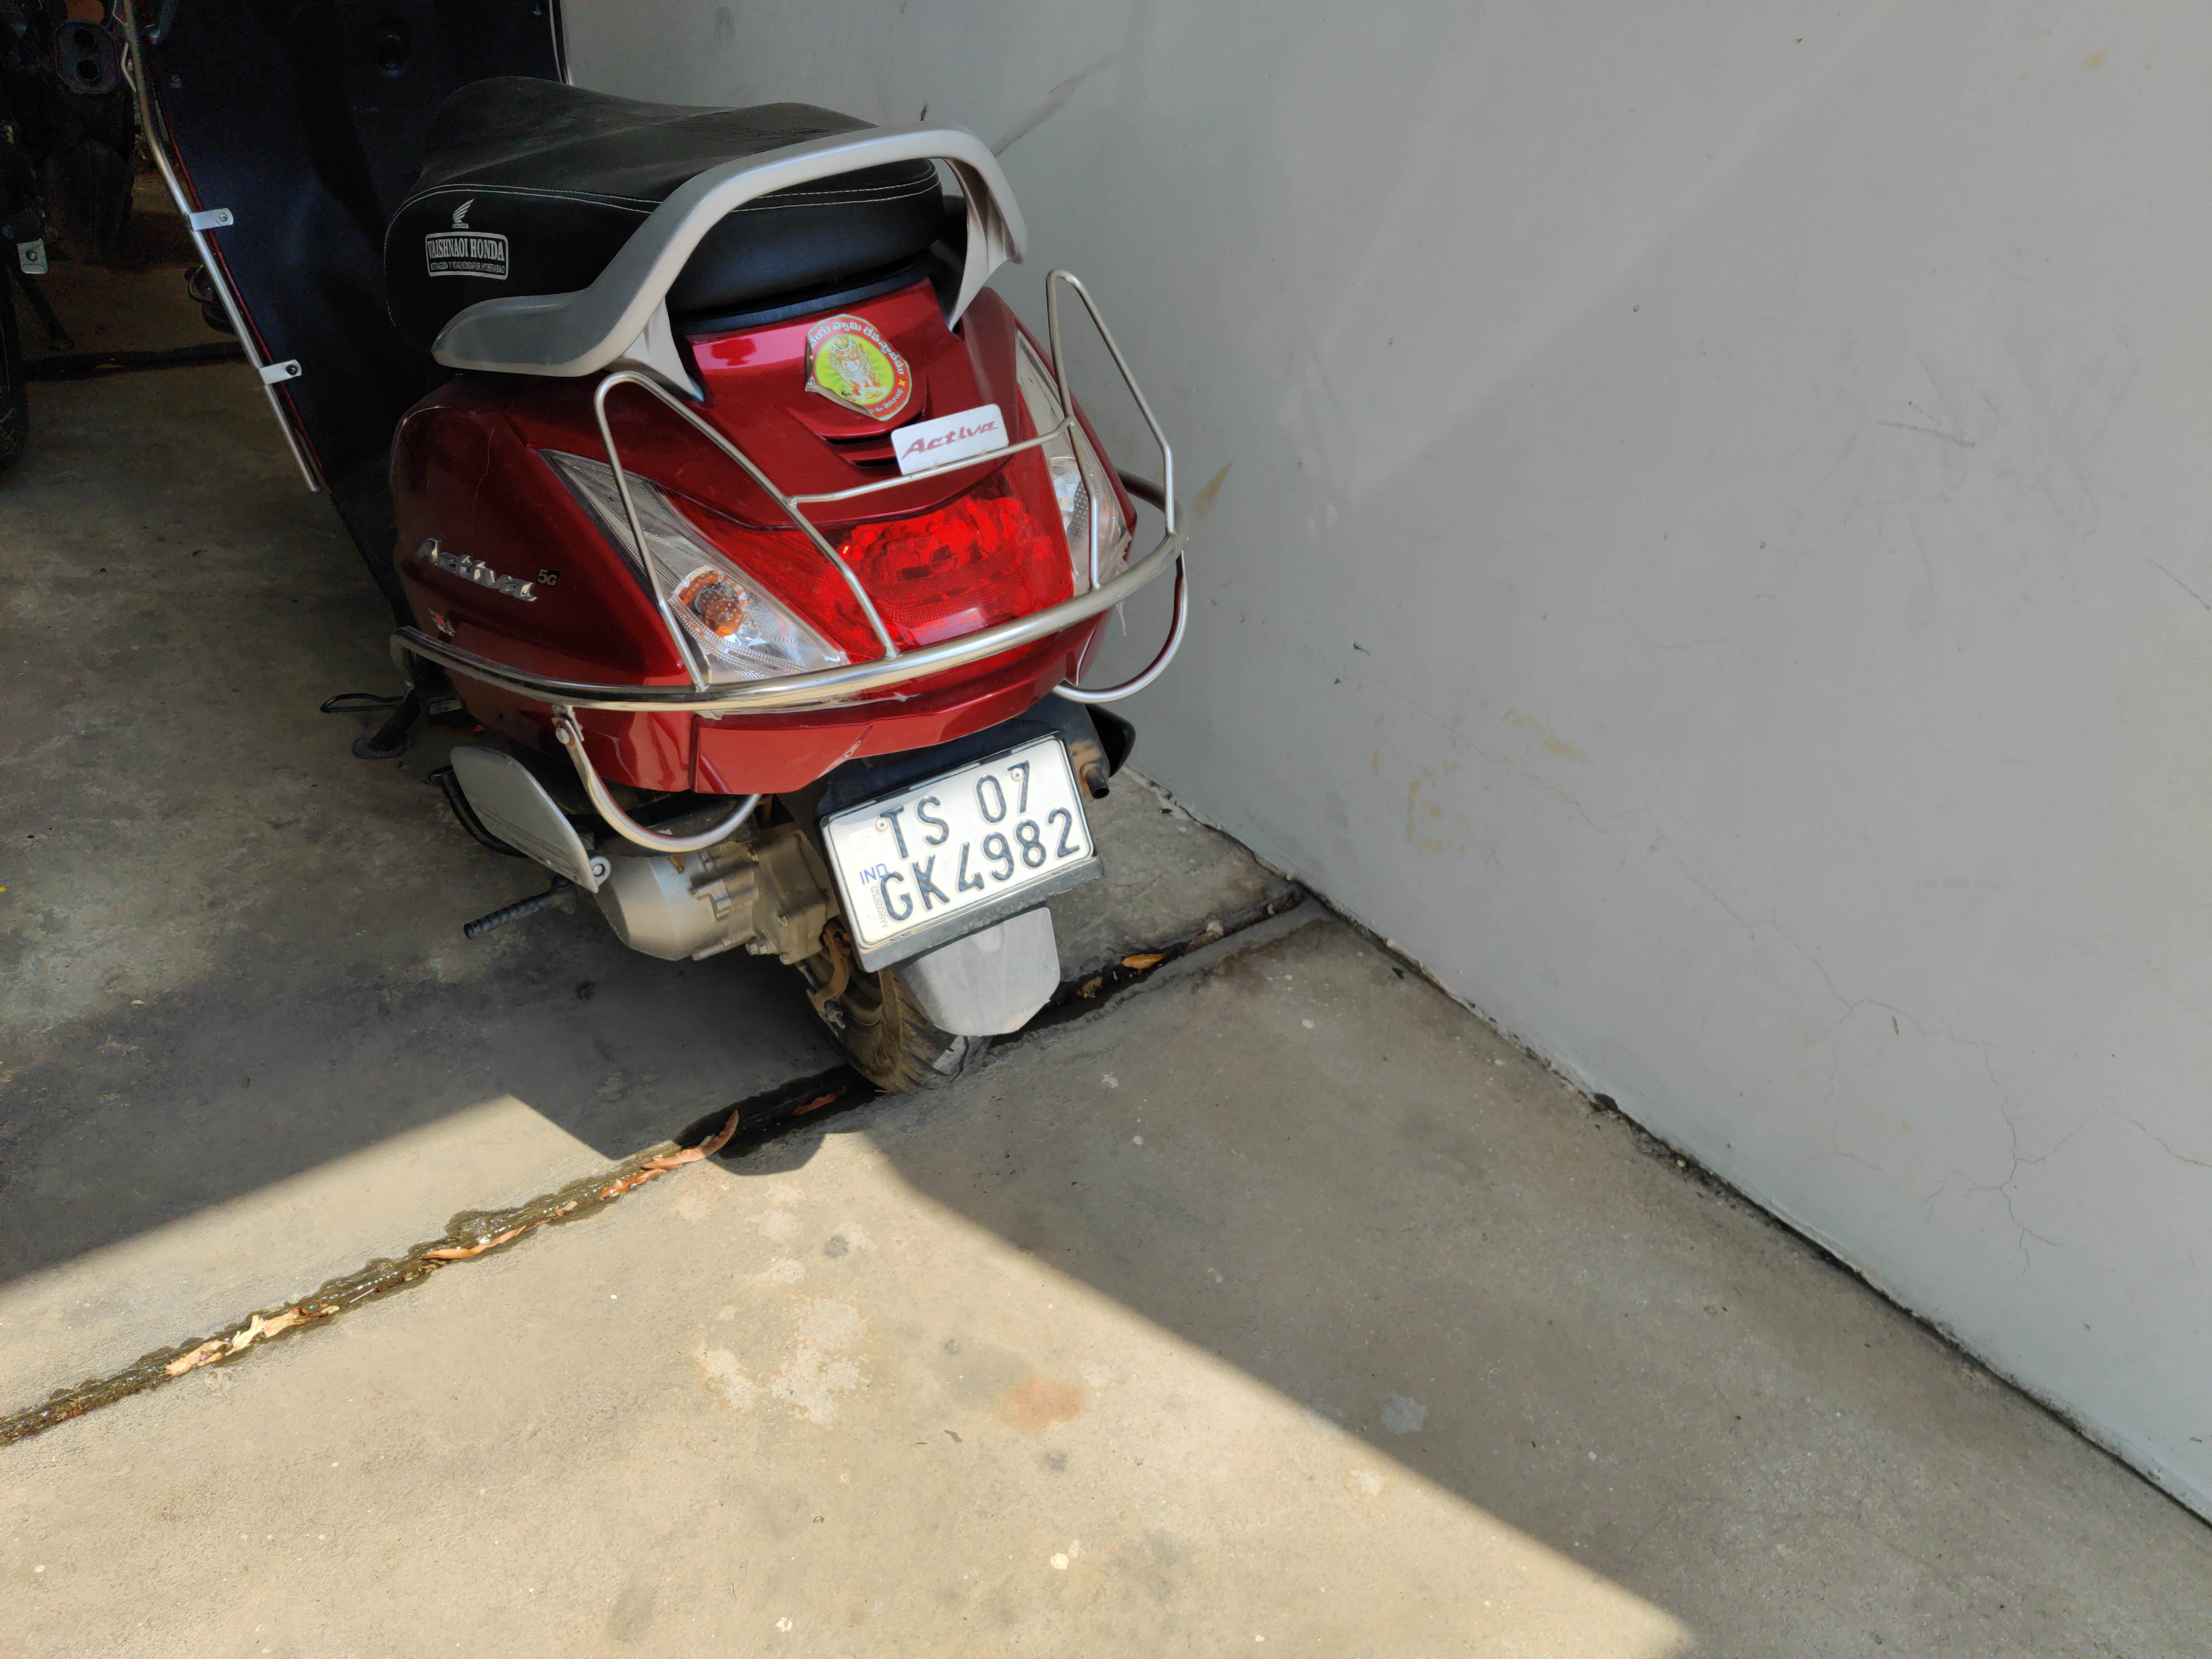plate: (792, 721, 1106, 969)
